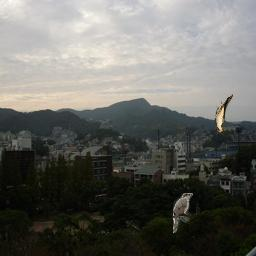Cuckoo: (173, 193, 193, 233), (215, 93, 233, 133)
